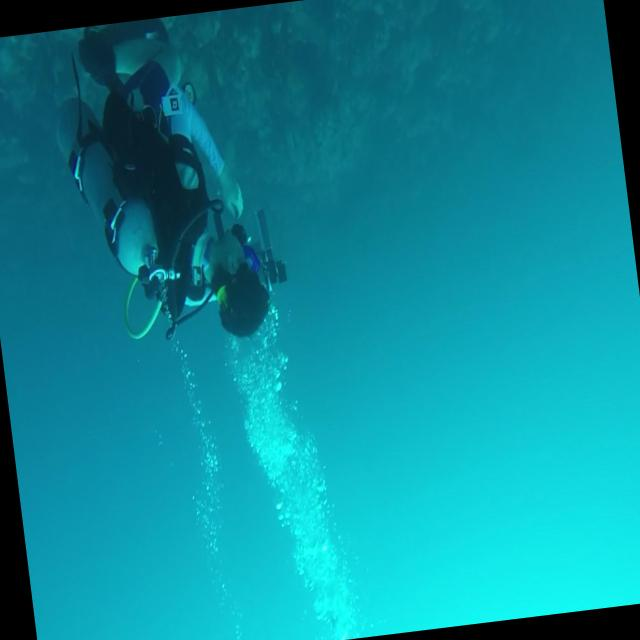human: (43, 8, 276, 359)
